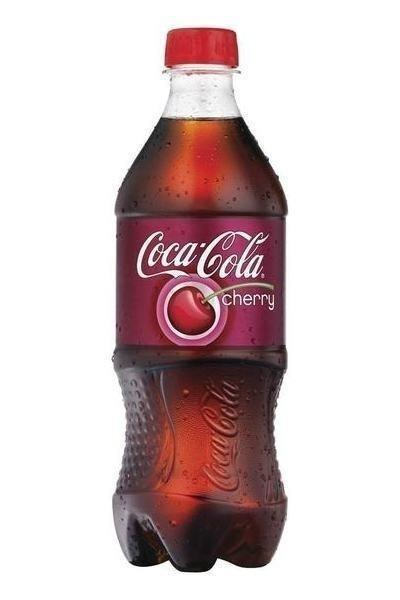bottle-plastic: (107, 20, 292, 578)
